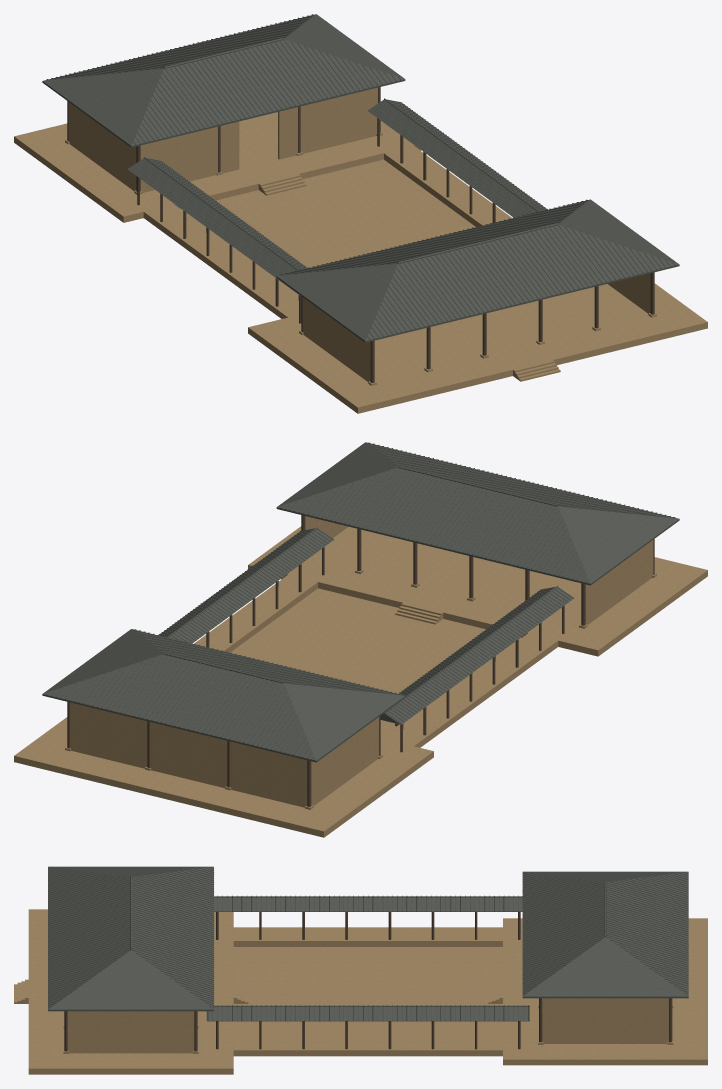
File: yutang-A-LOD0.glb
3 renders of one model, top to bottom at view 1: azimuth 30°, elevation 25°; view 2: azimuth 150°, elevation 25°; view 3: azimuth 270°, elevation 25°, orthographic. The views are drawn at different scales.
Visible parts, largest first — view 1: yutang-A-static_earth, yutang-A-static_tile, yutang-A-static_timber; view 2: yutang-A-static_earth, yutang-A-static_tile, yutang-A-static_timber; view 3: yutang-A-static_earth, yutang-A-static_tile, yutang-A-static_timber.
Part boxes in pixels (<box>): yutang-A-static_earth: <box>14,87,707,413</box>; yutang-A-static_tile: <box>42,14,679,342</box>; yutang-A-static_timber: <box>67,87,654,382</box>; yutang-A-static_earth: <box>14,516,707,837</box>; yutang-A-static_tile: <box>42,442,679,762</box>; yutang-A-static_timber: <box>67,515,654,806</box>; yutang-A-static_earth: <box>14,909,707,1074</box>; yutang-A-static_tile: <box>48,866,688,1020</box>; yutang-A-static_timber: <box>64,911,672,1051</box>.
Bounding box in the file's own units: 35 × 9.08 × 64.36.
Materials: 3 (3 with a texture image).
